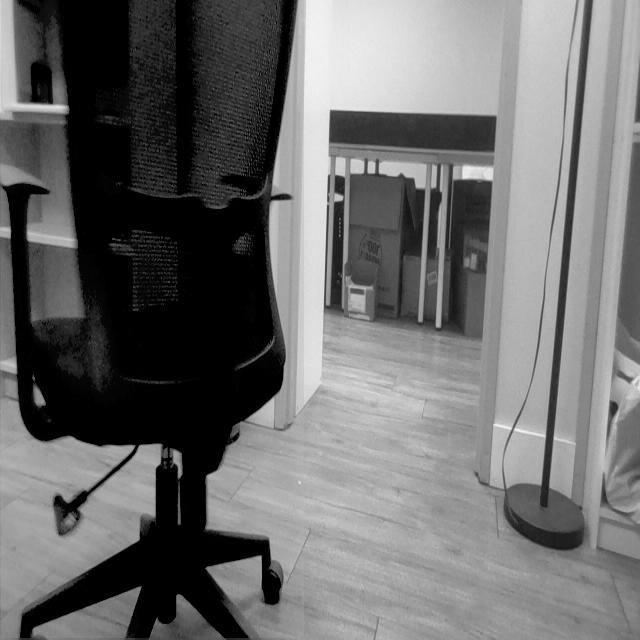chair: (0, 0, 301, 640)
